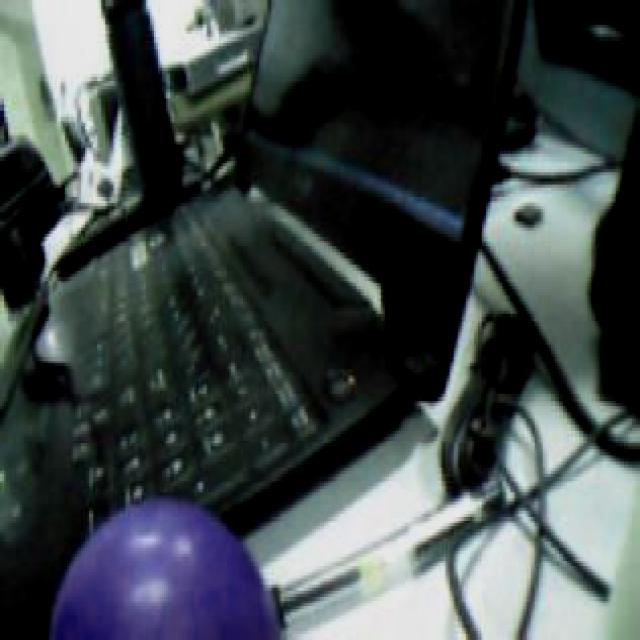BallPurple: (48, 495, 280, 640)
